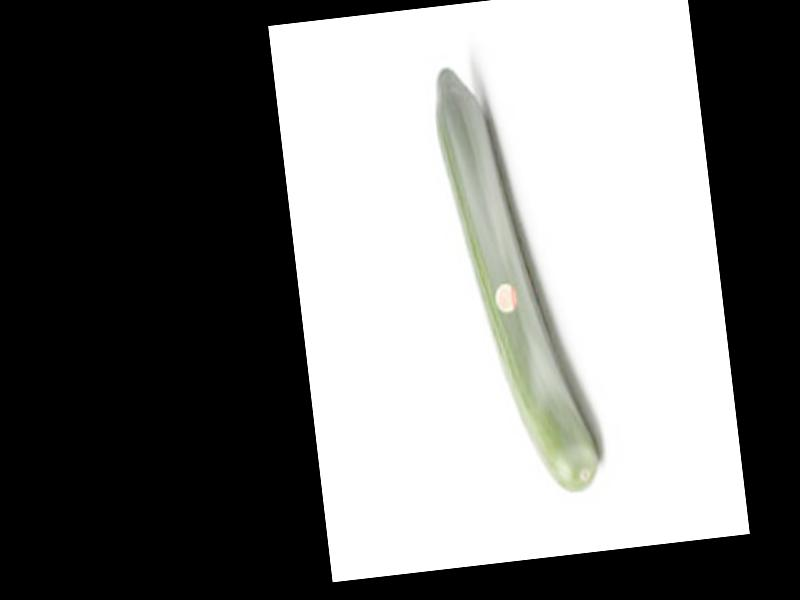Cucumber: (430, 55, 601, 505)
